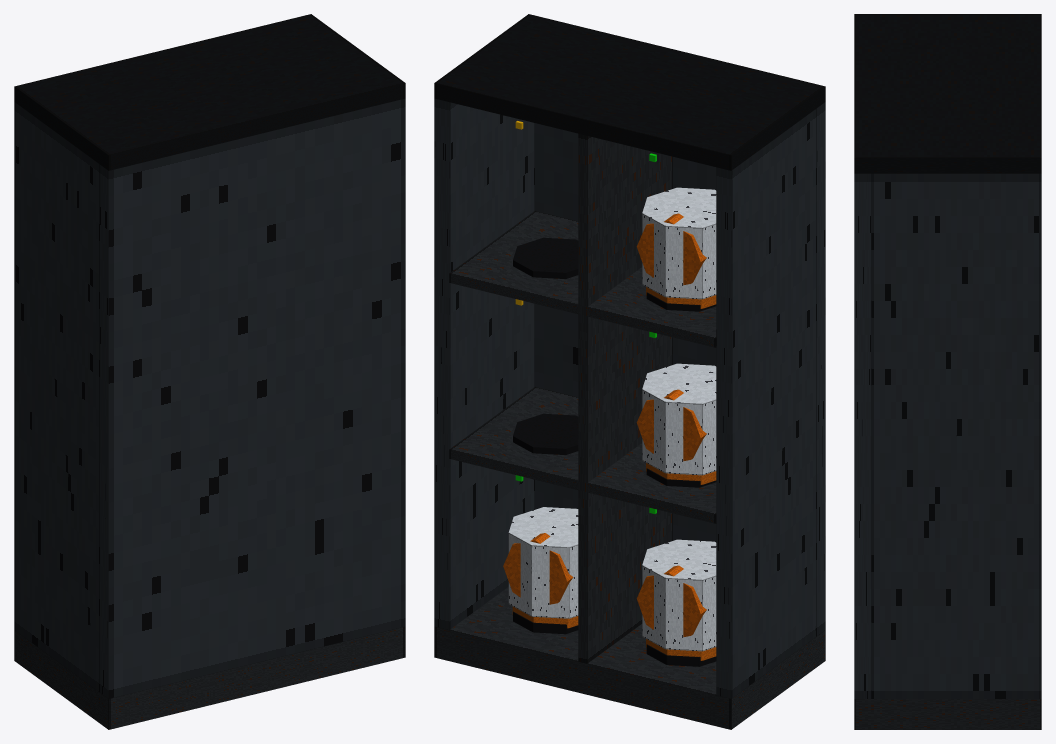
Rendered from helmet_storage.glb.
The picture shows the model from 3 angles, left to right: view 1: azimuth 30°, elevation 25°; view 2: azimuth 150°, elevation 25°; view 3: azimuth 270°, elevation 25°; orthographic projection.
Parts seen in each view (by area): view 1: helmet_storage; view 2: helmet_storage; view 3: helmet_storage.
Boxes of the visible parts, left/top/right/bottom form: helmet_storage: left=14, top=14, right=405, bottom=729; helmet_storage: left=434, top=14, right=825, bottom=729; helmet_storage: left=854, top=14, right=1041, bottom=729.
Bounding box in the file's own units: 1 × 1.85 × 0.55.
Materials: 1 (1 with a texture image).
